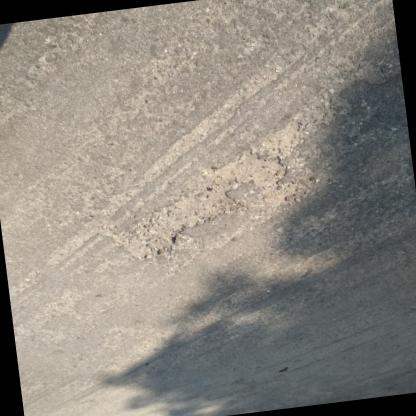pothole: (105, 119, 323, 266)
